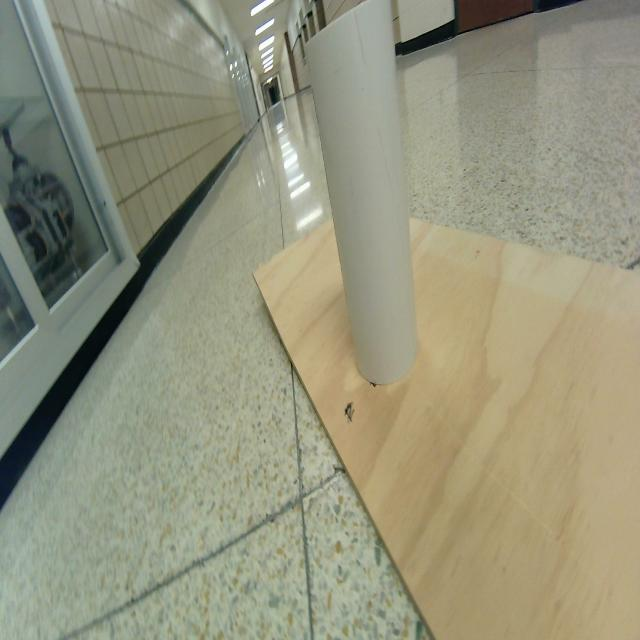coral: (305, 0, 417, 386)
